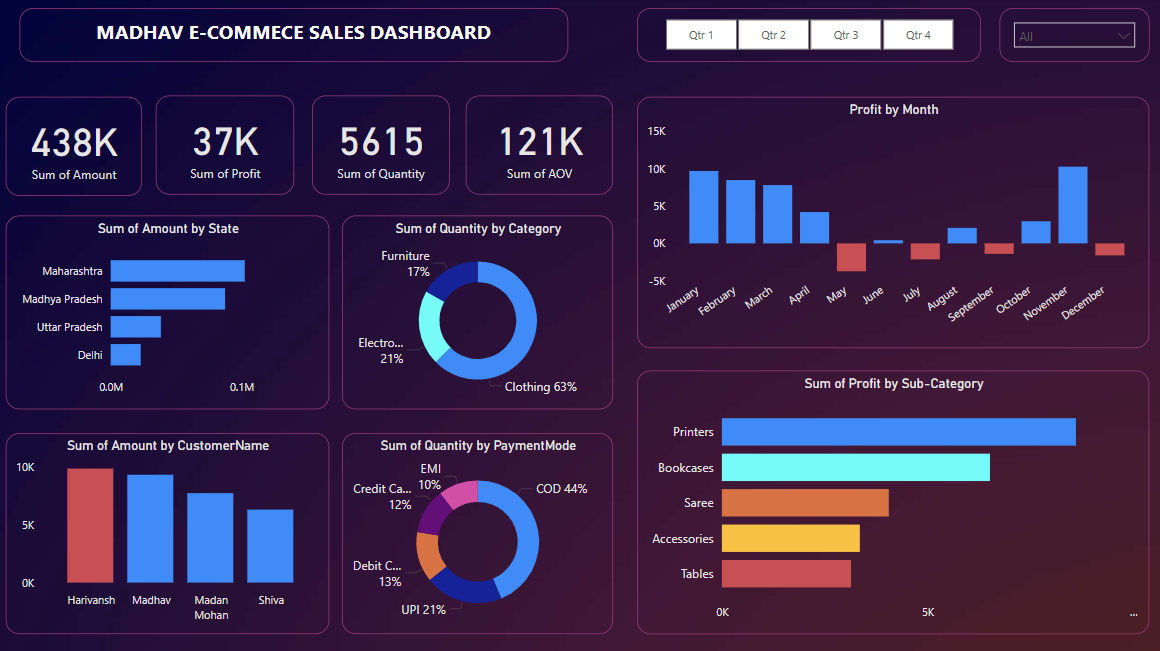

The dashboard page shown, as its layout file describes it:
{"tool":"powerbi","page":{"name":"Page 1","canvas":[1280,720],"ordinal":0},"visuals":[{"type":"textbox","box":[24.7,11,602.4,59],"z":0},{"type":"columnChart","title":"Profit by Month","fields":{"Category":["Orders.Order Date.Variation.Date Hierarchy.Month"],"Y":["Details.Profit"]},"box":[702.6,108.4,562.6,275.8],"z":1000},{"type":"barChart","fields":{"Category":["Details.Sub-Category"],"Y":["Details.Profit"]},"box":[702.6,408.9,562.6,289.5],"z":2000},{"type":"donutChart","fields":{"Category":["Details.Category"],"Y":["Details.Quantity"]},"box":[378.7,238.8,297.8,212.7],"z":3000},{"type":"donutChart","fields":{"Y":["Details.Quantity"],"Category":["Details.PaymentMode"]},"box":[378.7,477.5,297.8,220.9],"z":4000},{"type":"card","fields":{"Values":["Details.Amount"]},"box":[9.6,108.4,149.6,108.4],"z":5000},{"type":"card","fields":{"Values":["Details.Profit"]},"box":[174.3,107,152.3,108.4],"z":6000},{"type":"card","fields":{"Values":["Details.AOV"]},"box":[514.6,107,161.9,108.4],"z":7000},{"type":"card","fields":{"Values":["Details.Quantity"]},"box":[345.8,107,150.9,108.4],"z":8000},{"type":"barChart","fields":{"Category":["Orders.State"],"Y":["Details.Amount"]},"box":[9.6,238.8,355.4,212.7],"z":9000},{"type":"columnChart","fields":{"Category":["Orders.CustomerName"],"Y":["Details.Amount"]},"box":[10,478,355,221],"z":10000},{"type":"slicer","fields":{"Values":["Orders.Order Date.Variation.Date Hierarchy.Quarter"]},"box":[702.6,11,377.4,59],"z":11000},{"type":"slicer","fields":{"Values":["Orders.State"]},"box":[1100.5,11,164.7,59],"z":12000}]}

Visuals, with their boxes in screenshot pixels (x1, y1, x2, y2), scaled from the page's 1280x720 canvas onto the 1160x651 screenshot:
textbox: bbox=(22, 10, 568, 63)
"Profit by Month" columnChart: bbox=(637, 98, 1147, 347)
barChart - Details.Sub-Category x Details.Profit: bbox=(637, 370, 1147, 631)
donutChart - Details.Category x Details.Quantity: bbox=(343, 216, 613, 408)
donutChart - Details.Quantity x Details.PaymentMode: bbox=(343, 432, 613, 631)
card - Details.Amount: bbox=(9, 98, 144, 196)
card - Details.Profit: bbox=(158, 97, 296, 195)
card - Details.AOV: bbox=(466, 97, 613, 195)
card - Details.Quantity: bbox=(313, 97, 450, 195)
barChart - Orders.State x Details.Amount: bbox=(9, 216, 331, 408)
columnChart - Orders.CustomerName x Details.Amount: bbox=(9, 432, 331, 632)
slicer - Orders.Order Date.Variation.Date Hierarchy.Quarter: bbox=(637, 10, 979, 63)
slicer - Orders.State: bbox=(997, 10, 1147, 63)
